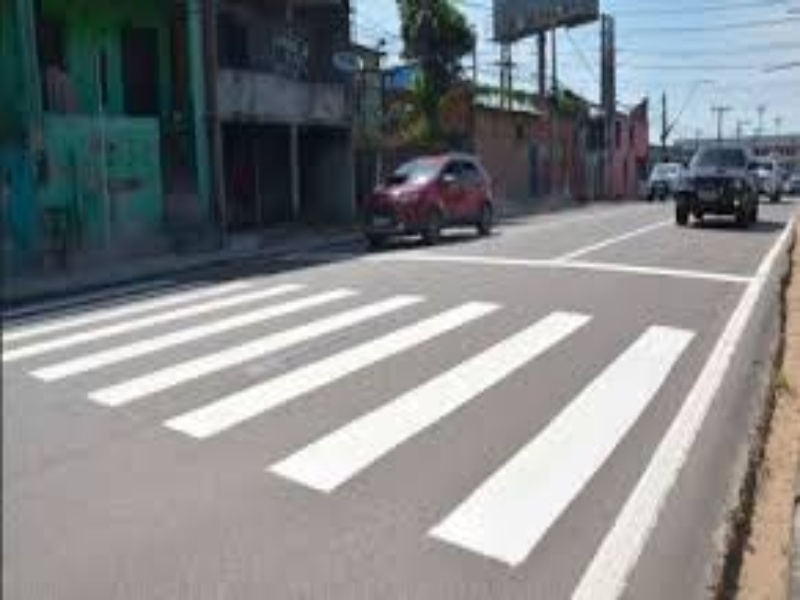zebra cross: (1, 278, 699, 567)
